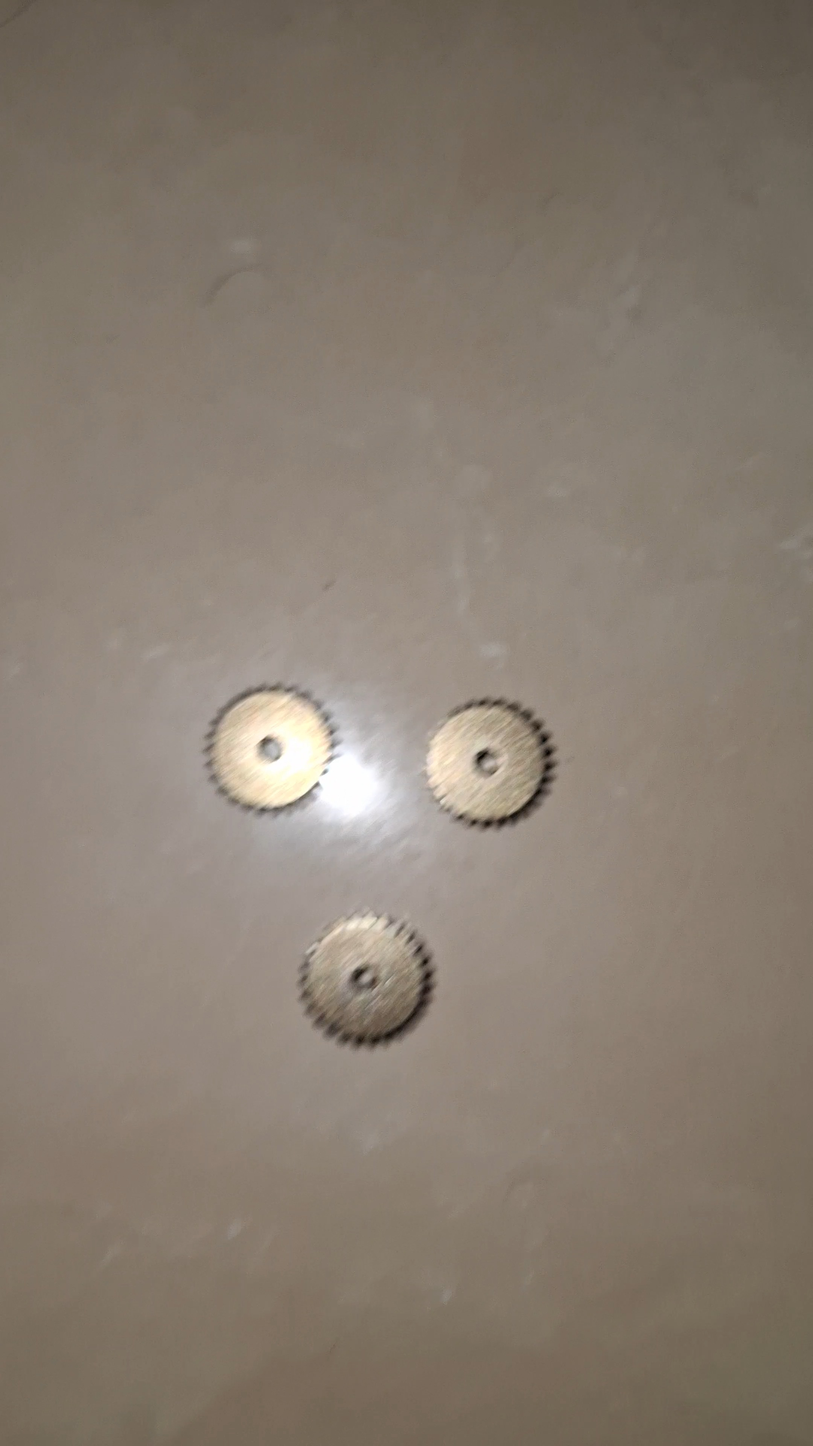spur gear: (300, 913, 431, 1045), (426, 700, 553, 826), (206, 686, 334, 811)
